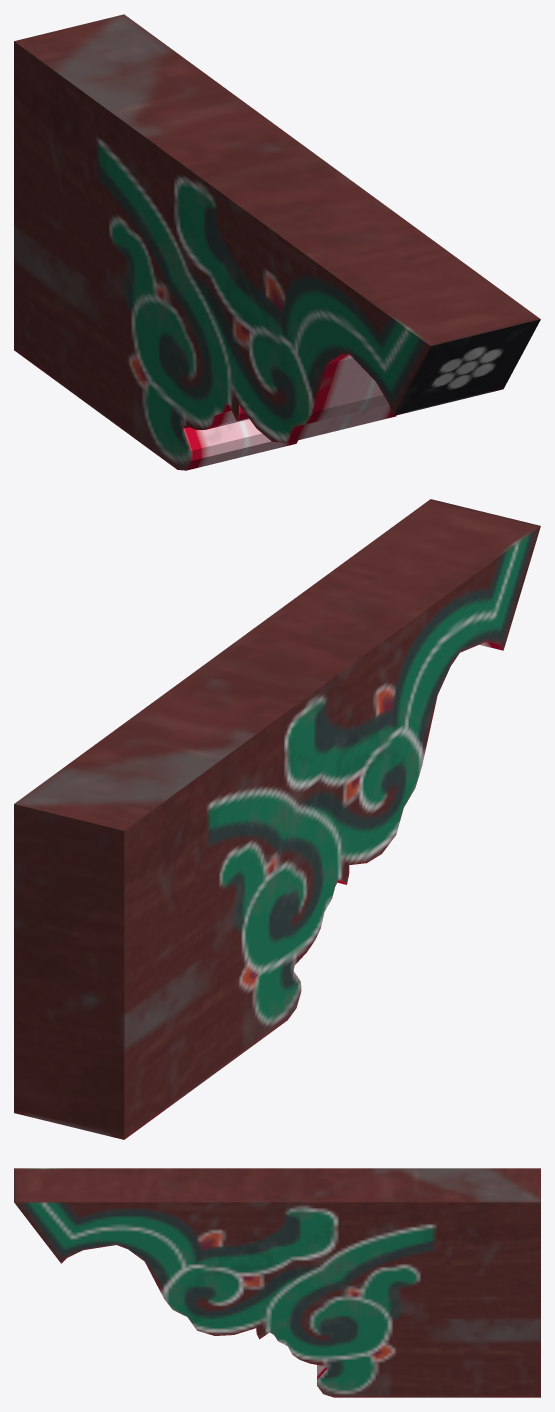
The model's file is SM_Gongpo01f.fbx.
3 renders of one model, top to bottom at view 1: azimuth 30°, elevation 25°; view 2: azimuth 150°, elevation 25°; view 3: azimuth 270°, elevation 25°, orthographic. The views are drawn at different scales.
Parts seen in each view (by area): view 1: SM_Gongpo01f; view 2: SM_Gongpo01f; view 3: SM_Gongpo01f.
Boxes of the visible parts, x1,y1,x2,y2 form: SM_Gongpo01f: (14, 14, 540, 470); SM_Gongpo01f: (14, 499, 540, 1139); SM_Gongpo01f: (14, 1168, 540, 1397).
Bounding box in the file's own units: 8 × 52.36 × 21.42.
Materials: 1 (1 with a texture image).
